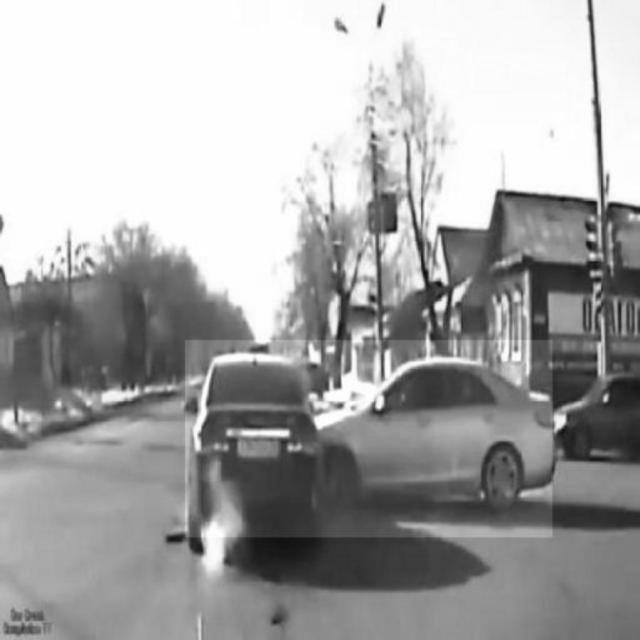accident: (185, 341, 553, 538)
vehicle: (557, 374, 640, 457)
